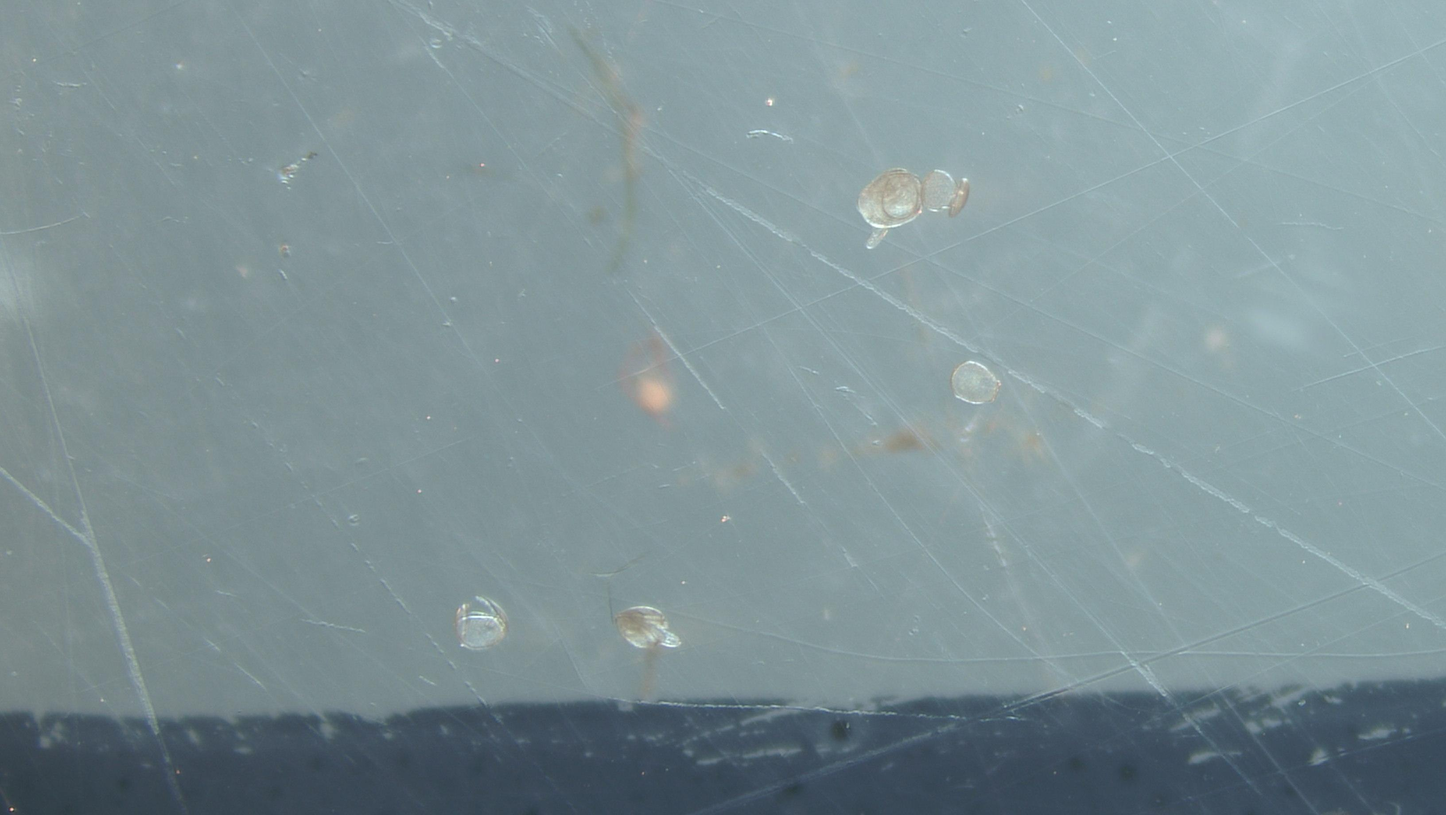dead: (455, 597, 508, 650), (951, 361, 1002, 404), (923, 170, 956, 211)
live: (859, 169, 923, 231), (615, 606, 681, 649)
